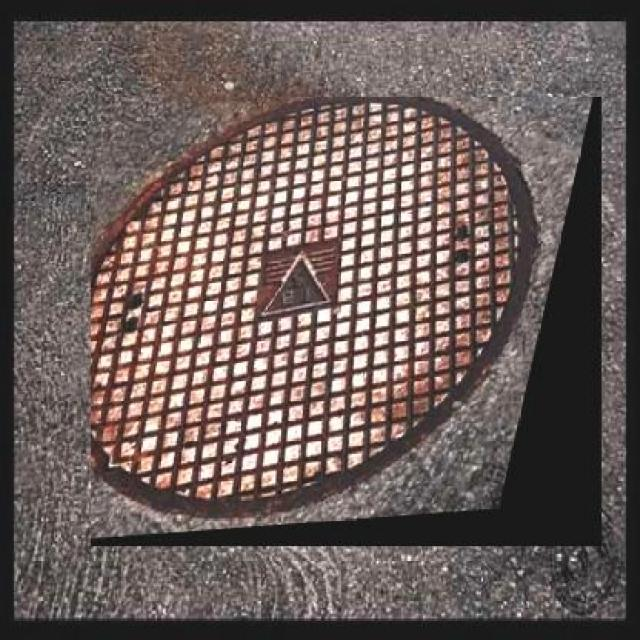Manhole: (90, 97, 602, 546)
